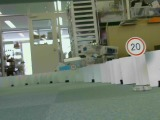speed_20: (124, 36, 147, 57)
